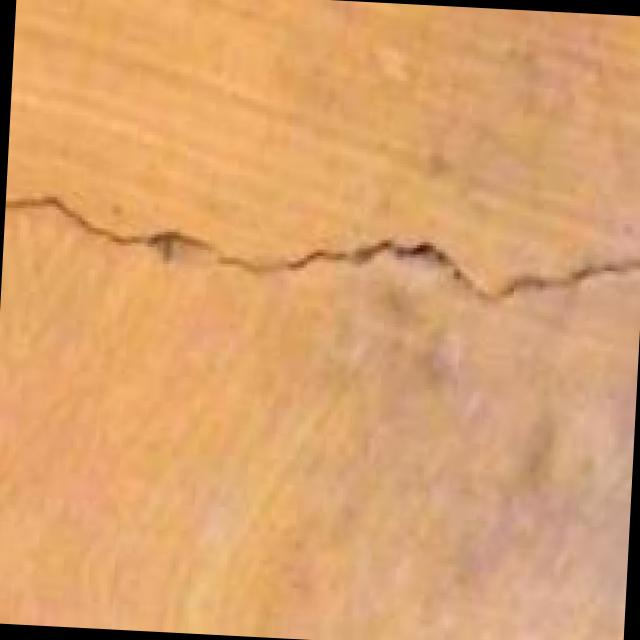crack: (2, 169, 640, 362)
